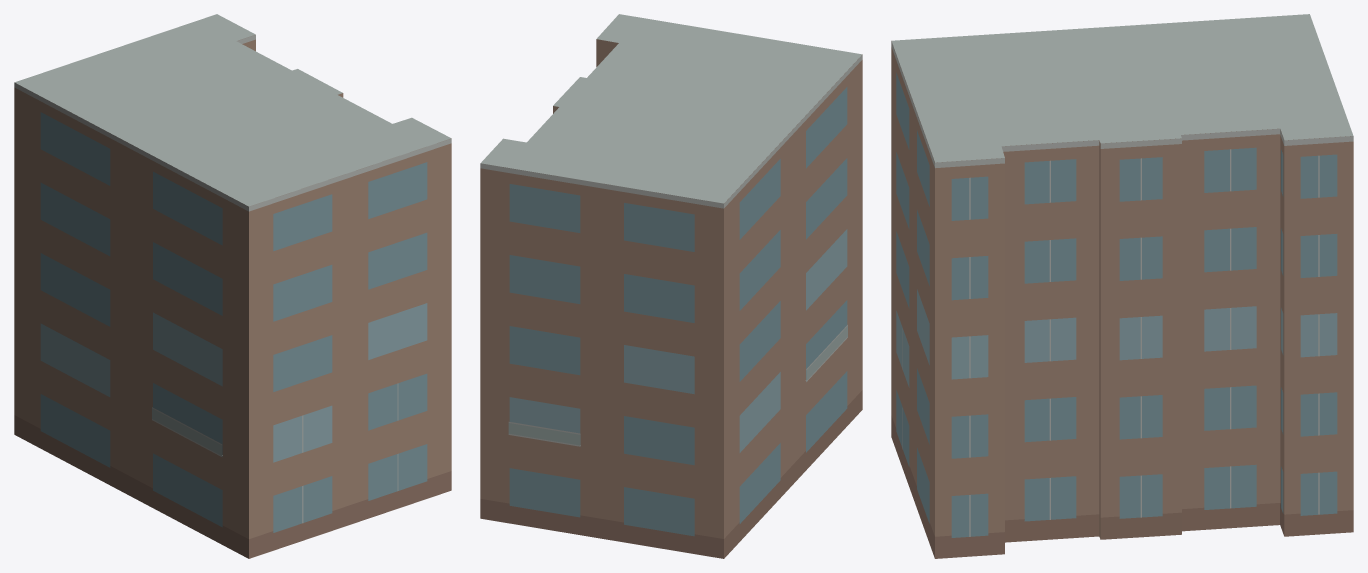
File: survey-upis-32574438.glb
The picture shows the model from 3 angles, left to right: view 1: azimuth 30°, elevation 25°; view 2: azimuth 150°, elevation 25°; view 3: azimuth 270°, elevation 25°; orthographic projection. The views are drawn at different scales.
Visible parts, largest first — view 1: survey-upis-32574438.tmp; view 2: survey-upis-32574438.tmp; view 3: survey-upis-32574438.tmp.
Boxes of the visible parts, bbox=[...] form: survey-upis-32574438.tmp: bbox=[14, 14, 451, 558]; survey-upis-32574438.tmp: bbox=[480, 14, 862, 558]; survey-upis-32574438.tmp: bbox=[891, 14, 1353, 558].
Bounding box in the file's own units: 13.84 × 17.2 × 18.18.
